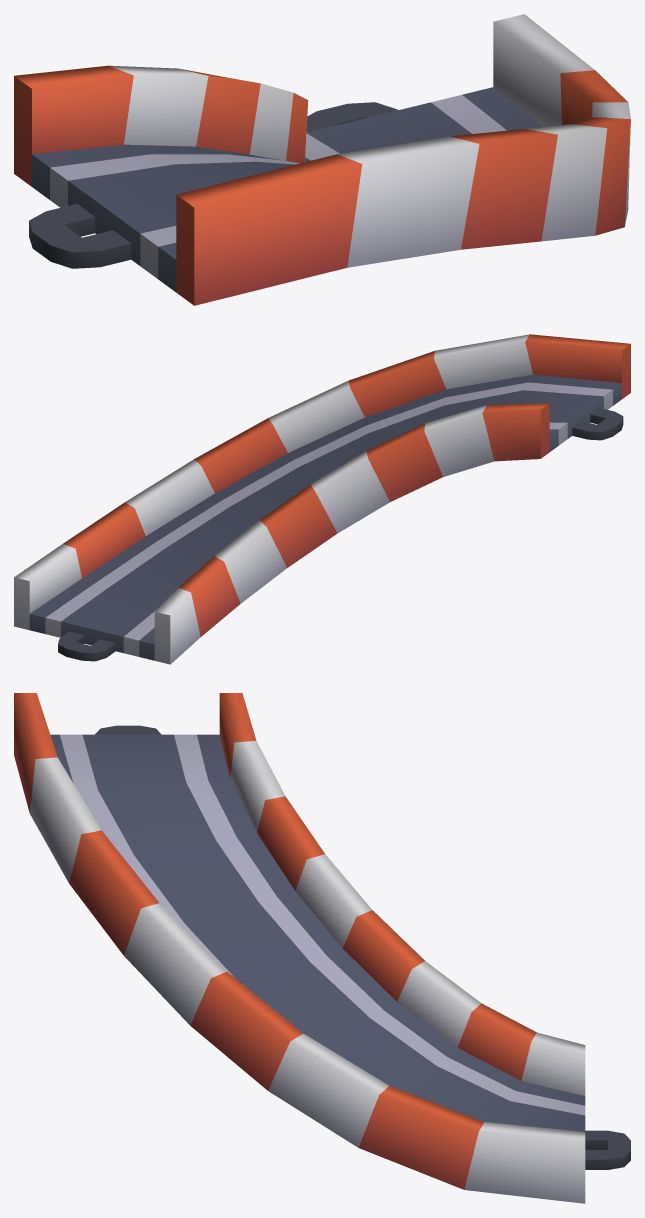
File: track-road-narrow-corner-small-ramp.glb
3 renders of one model, top to bottom at view 1: azimuth 30°, elevation 25°; view 2: azimuth 150°, elevation 25°; view 3: azimuth 270°, elevation 25°, orthographic. The views are drawn at different scales.
Visible parts, largest first — view 1: track-road-narrow-corner-small-ramp; view 2: track-road-narrow-corner-small-ramp; view 3: track-road-narrow-corner-small-ramp.
Part boxes in pixels (x1,y1,x2,y2): track-road-narrow-corner-small-ramp: (14, 14, 630, 305); track-road-narrow-corner-small-ramp: (14, 334, 630, 664); track-road-narrow-corner-small-ramp: (14, 693, 630, 1203).
Size of the model in its own units: 2.7 by 1.3 by 2.7.
